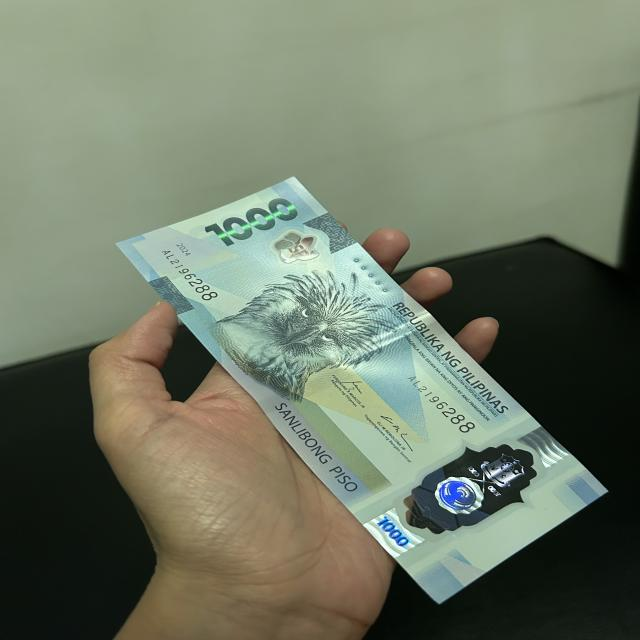clear_window: (394, 446, 551, 532)
eagle: (226, 274, 400, 382)
sampaguita: (268, 230, 324, 266)
